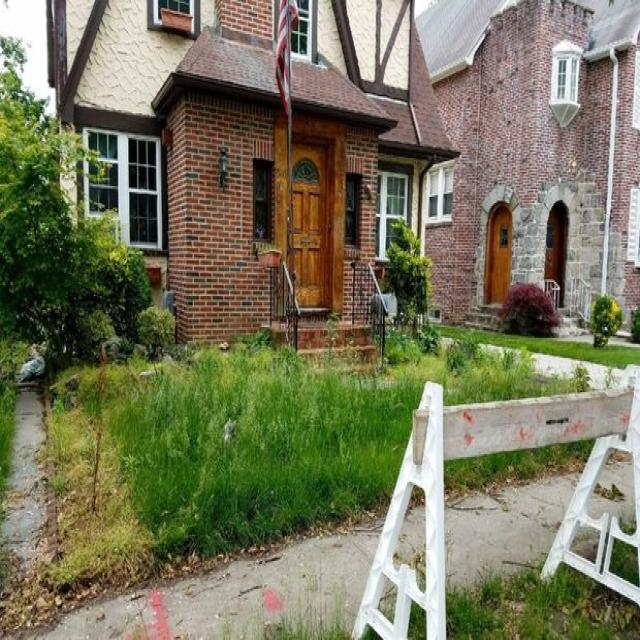House: (41, 1, 459, 353), (428, 1, 637, 352)
